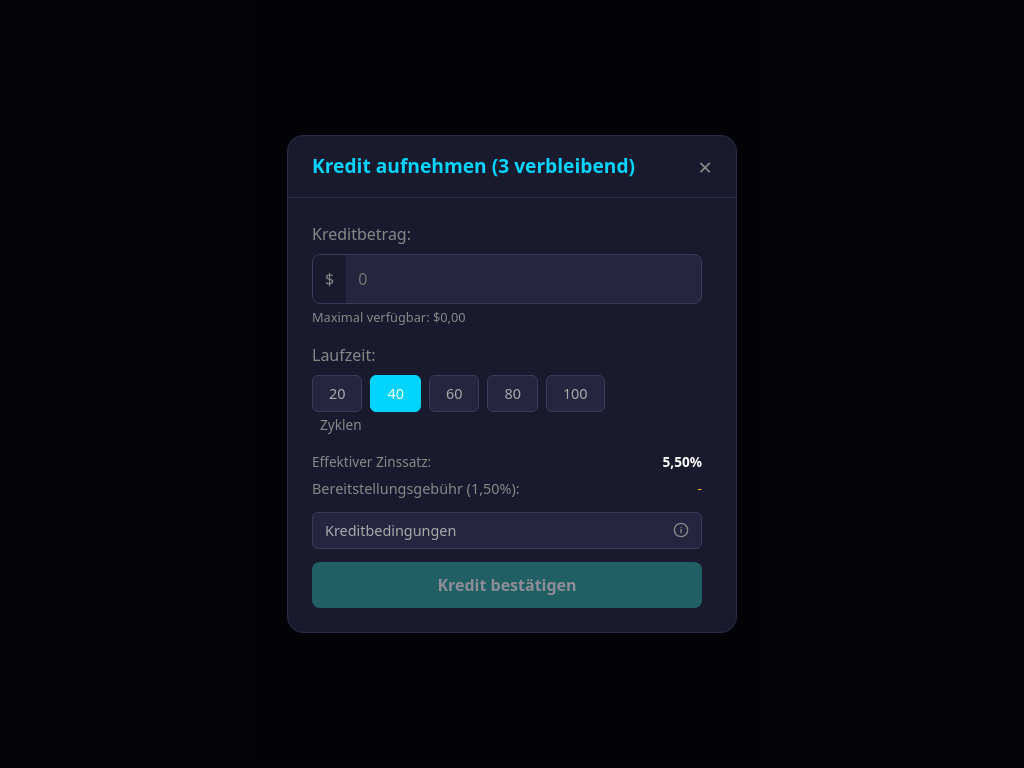
it: Loan › interest rate display › should show cycles info when conditions are expanded
What coordinates should you click on to do the following:
click the button "Kreditbedingungen"
I would click on:
 (391, 530)
Its box is [312,512,702,549].
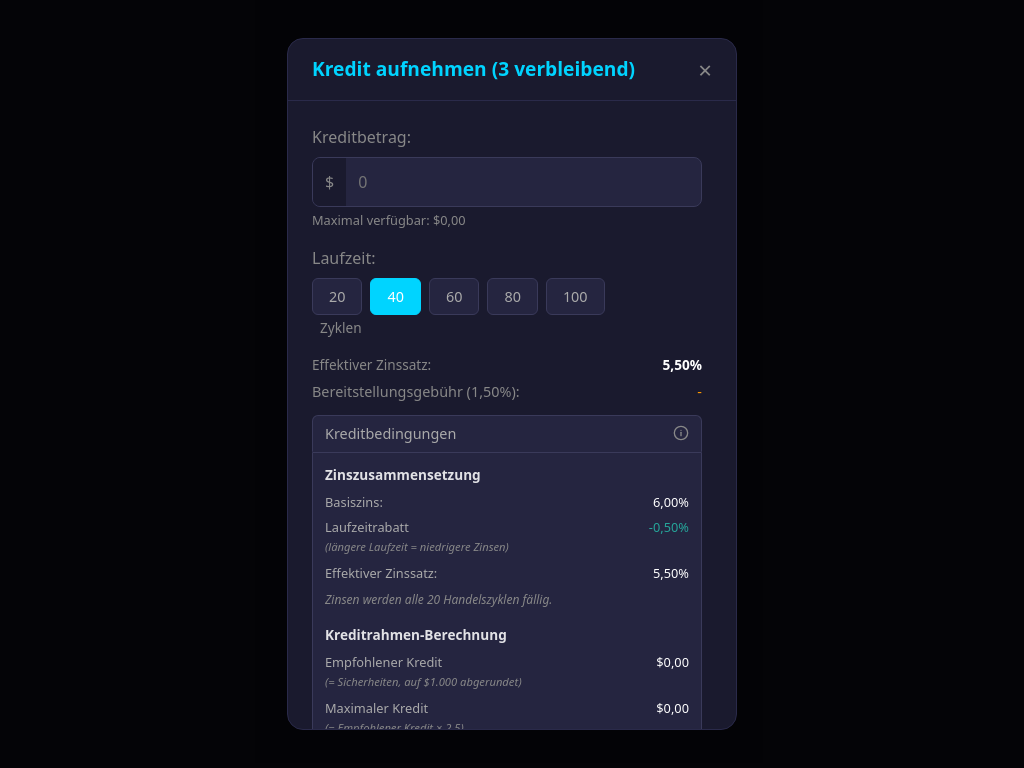
Now the text "Zinsen werden alle 20 Handelszyklen fällig." is shown, box [325,591,552,608]
